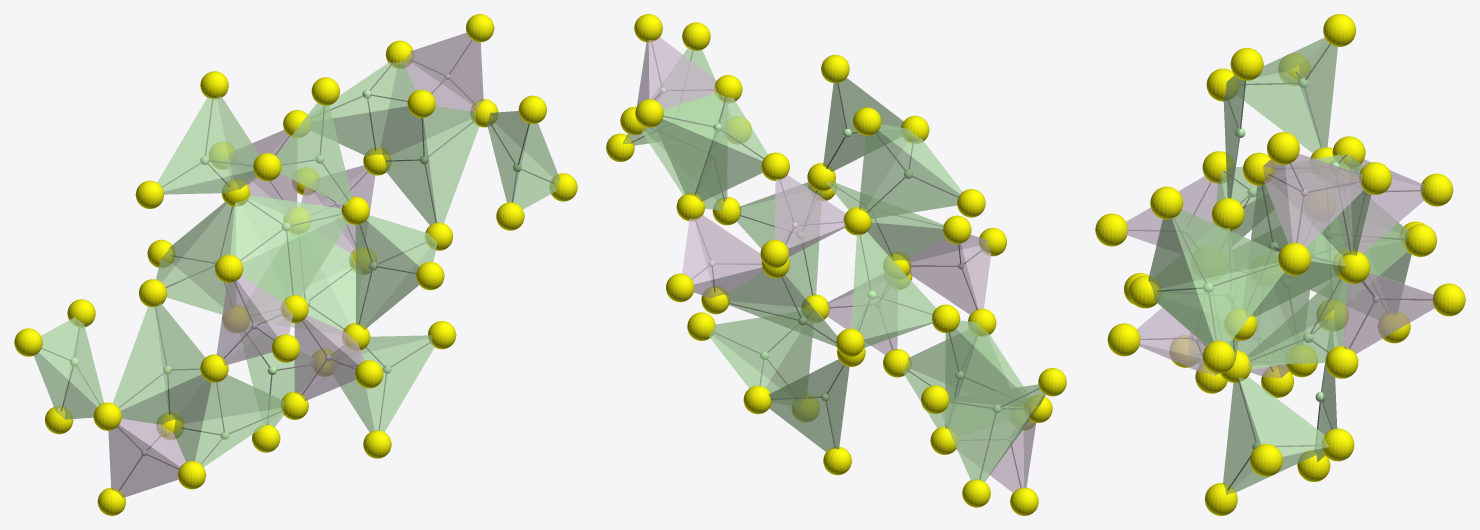
3 renders of one model, left to right at view 1: azimuth 30°, elevation 25°; view 2: azimuth 150°, elevation 25°; view 3: azimuth 270°, elevation 25°, orthographic. The views are drawn at different scales.
Parts seen in each view (by area): view 1: Shape_IndexedFaceSet.062, Shape_IndexedFaceSet.077, Shape_IndexedFaceSet.045, Shape_IndexedFaceSet.042, Shape_IndexedFaceSet.068, Shape_IndexedFaceSet.069, Shape_IndexedFaceSet.027, Shape_IndexedFaceSet.061, Shape_IndexedFaceSet.034, Shape_IndexedFaceSet.063, Shape_IndexedFaceSet.076, Shape_IndexedFaceSet.067 (+96 smaller); view 2: Shape_IndexedFaceSet.048, Shape_IndexedFaceSet.064, Shape_IndexedFaceSet.076, Shape_IndexedFaceSet.067, Shape_IndexedFaceSet.028, Shape_IndexedFaceSet.037, Shape_IndexedFaceSet.078, Shape_IndexedFaceSet.051, Shape_IndexedFaceSet.075, Shape_IndexedFaceSet.073, Shape_IndexedFaceSet.031, Shape_IndexedFaceSet.056 (+81 smaller); view 3: Shape_IndexedFaceSet.054, Shape_IndexedFaceSet.079, Shape_IndexedFaceSet.072, Shape_IndexedFaceSet.052, Shape_IndexedFaceSet.053, Shape_IndexedFaceSet.059, Shape_IndexedFaceSet.022, Shape_IndexedFaceSet.007, Shape_IndexedFaceSet.021, Shape_IndexedFaceSet.004, Shape_IndexedFaceSet.055, Shape_IndexedFaceSet.040 (+72 smaller).
Boxes of the visible parts, x1=… form: Shape_IndexedFaceSet.062: x1=242, y1=195, x2=347, y2=296; Shape_IndexedFaceSet.077: x1=157, y1=96, x2=259, y2=191; Shape_IndexedFaceSet.045: x1=113, y1=303, x2=204, y2=410; Shape_IndexedFaceSet.042: x1=386, y1=120, x2=478, y2=224; Shape_IndexedFaceSet.068: x1=356, y1=215, x2=429, y2=325; Shape_IndexedFaceSet.069: x1=355, y1=220, x2=419, y2=329; Shape_IndexedFaceSet.027: x1=195, y1=375, x2=284, y2=466; Shape_IndexedFaceSet.061: x1=230, y1=195, x2=343, y2=262; Shape_IndexedFaceSet.034: x1=276, y1=102, x2=352, y2=205; Shape_IndexedFaceSet.063: x1=241, y1=216, x2=347, y2=302; Shape_IndexedFaceSet.076: x1=157, y1=98, x2=232, y2=194; Shape_IndexedFaceSet.067: x1=162, y1=204, x2=234, y2=314; Shape_IndexedFaceSet.048: x1=941, y1=384, x2=1043, y2=481; Shape_IndexedFaceSet.064: x1=851, y1=232, x2=935, y2=339; Shape_IndexedFaceSet.076: x1=859, y1=131, x2=959, y2=218; Shape_IndexedFaceSet.067: x1=853, y1=232, x2=935, y2=347; Shape_IndexedFaceSet.028: x1=655, y1=119, x2=762, y2=201; Shape_IndexedFaceSet.037: x1=768, y1=359, x2=849, y2=451; Shape_IndexedFaceSet.078: x1=866, y1=139, x2=961, y2=218; Shape_IndexedFaceSet.051: x1=941, y1=402, x2=1030, y2=480; Shape_IndexedFaceSet.075: x1=713, y1=318, x2=811, y2=387; Shape_IndexedFaceSet.073: x1=708, y1=317, x2=799, y2=388; Shape_IndexedFaceSet.031: x1=656, y1=93, x2=723, y2=193; Shape_IndexedFaceSet.056: x1=725, y1=271, x2=837, y2=346; Shape_IndexedFaceSet.054: x1=1172, y1=210, x2=1284, y2=343; Shape_IndexedFaceSet.079: x1=1244, y1=37, x2=1337, y2=152; Shape_IndexedFaceSet.072: x1=1223, y1=377, x2=1324, y2=491; Shape_IndexedFaceSet.052: x1=1148, y1=210, x2=1278, y2=288; Shape_IndexedFaceSet.053: x1=1154, y1=263, x2=1283, y2=345; Shape_IndexedFaceSet.059: x1=1247, y1=276, x2=1347, y2=365; Shape_IndexedFaceSet.022: x1=1285, y1=154, x2=1363, y2=247; Shape_IndexedFaceSet.007: x1=1343, y1=273, x2=1435, y2=353; Shape_IndexedFaceSet.021: x1=1264, y1=171, x2=1363, y2=246; Shape_IndexedFaceSet.004: x1=1343, y1=273, x2=1433, y2=353; Shape_IndexedFaceSet.055: x1=1148, y1=219, x2=1213, y2=345; Shape_IndexedFaceSet.040: x1=1251, y1=185, x2=1342, y2=316.
Bounding box in the file's own units: 1894 × 1454 × 1032.
